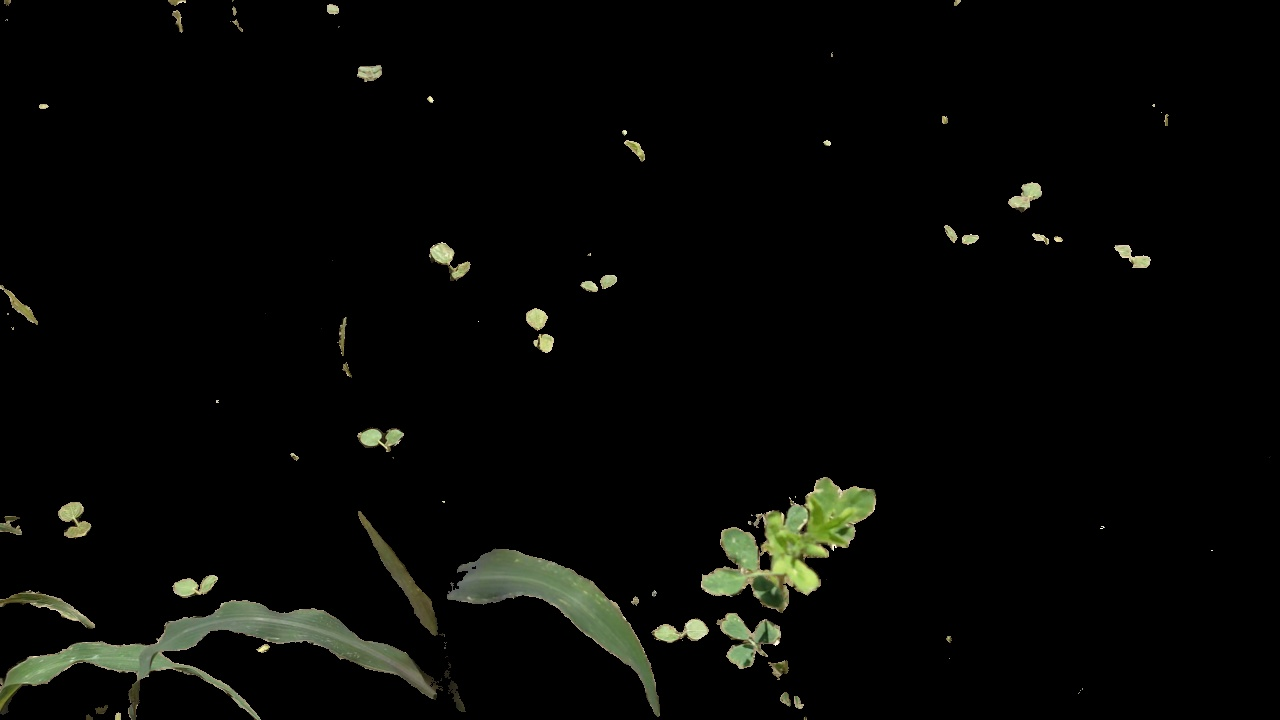crop: (136, 499, 667, 717), (1, 576, 255, 720)
weed: (700, 477, 903, 612), (718, 613, 835, 718), (423, 233, 476, 285), (162, 567, 231, 597), (649, 612, 712, 644), (521, 303, 558, 357), (46, 501, 95, 540), (1109, 235, 1158, 273), (1000, 176, 1044, 213), (618, 124, 655, 168), (350, 54, 395, 89), (942, 214, 978, 254), (358, 421, 406, 450), (579, 267, 621, 294), (1031, 226, 1068, 248)
